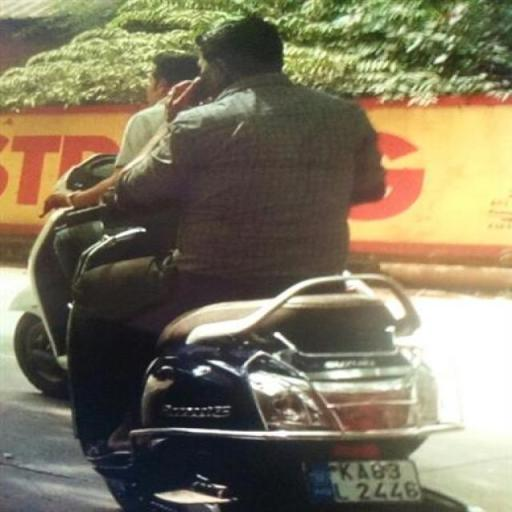using mobile: (164, 52, 230, 128)
